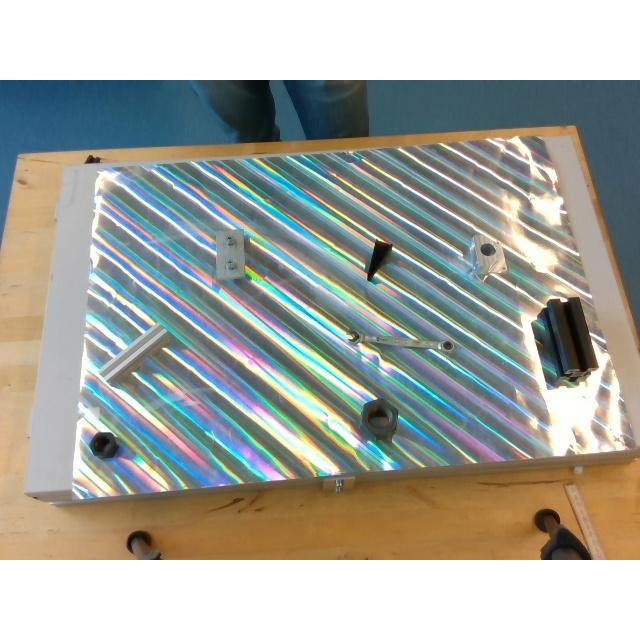F20_20_G: (100, 324, 172, 381)
M20: (90, 432, 118, 458)
M30: (362, 399, 398, 439)
S40_40_B: (529, 298, 597, 387)
Wrench: (344, 330, 456, 352)
